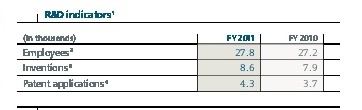table: (0, 0, 362, 110)
